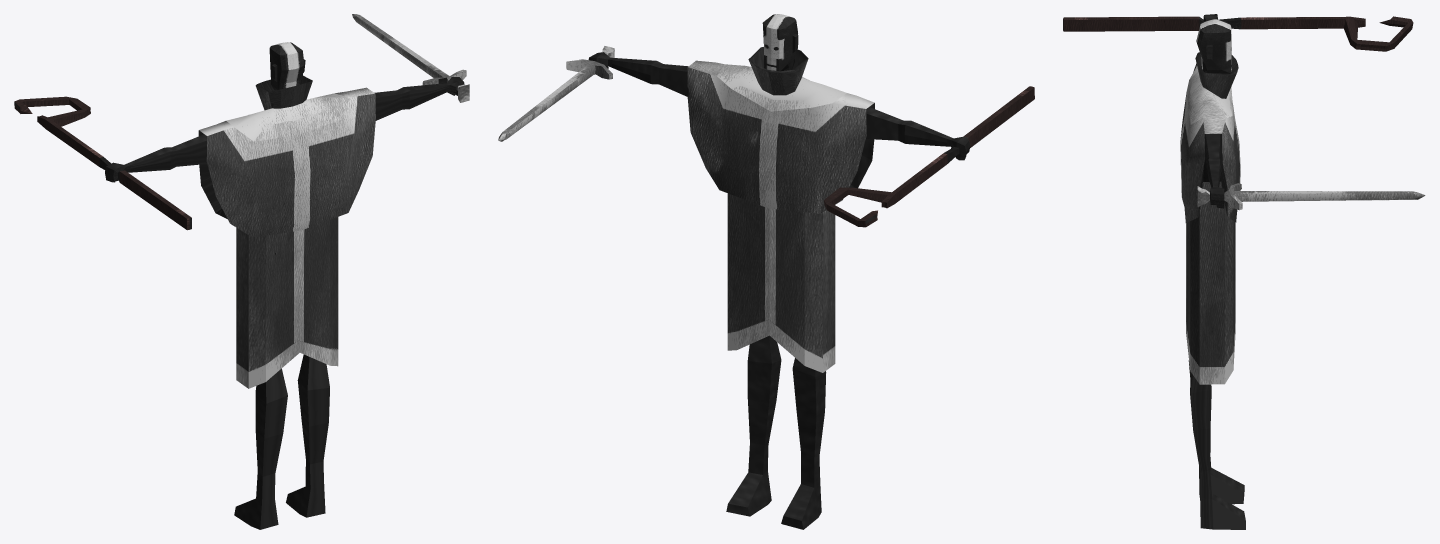
Rendered from goodguy.DAE.
3 renders of one model, left to right at view 1: azimuth 30°, elevation 25°; view 2: azimuth 150°, elevation 25°; view 3: azimuth 270°, elevation 25°, orthographic. The views are drawn at different scales.
Visible parts, largest first — view 1: Box001; view 2: Box001; view 3: Box001.
Boxes of the visible parts, bbox=[...] form: Box001: bbox=[14, 14, 469, 529]; Box001: bbox=[498, 14, 1034, 529]; Box001: bbox=[1063, 14, 1425, 529].
Size of the model in its own units: 340 by 413 by 277.
Materials: 1 (1 with a texture image).
